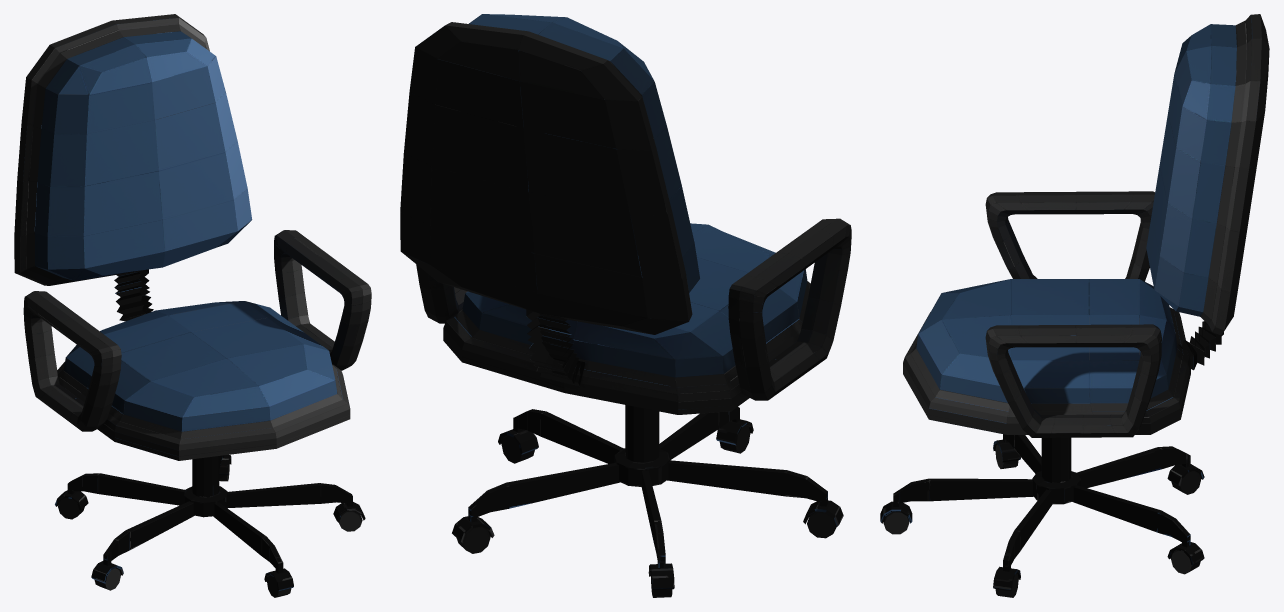
File: silla_gamer_h.glb
3 renders of one model, left to right at view 1: azimuth 30°, elevation 25°; view 2: azimuth 150°, elevation 25°; view 3: azimuth 270°, elevation 25°, orthographic. The views are drawn at different scales.
Parts seen in each view (by area): view 1: OfficeChair; view 2: OfficeChair; view 3: OfficeChair.
Boxes of the visible parts, x1=… form: OfficeChair: x1=14, y1=14, x2=371, y2=597; OfficeChair: x1=400, y1=14, x2=851, y2=597; OfficeChair: x1=880, y1=14, x2=1269, y2=597.
Size of the model in its own units: 0.7217 by 1.13 by 0.8072.
3 materials, 3 textured.
